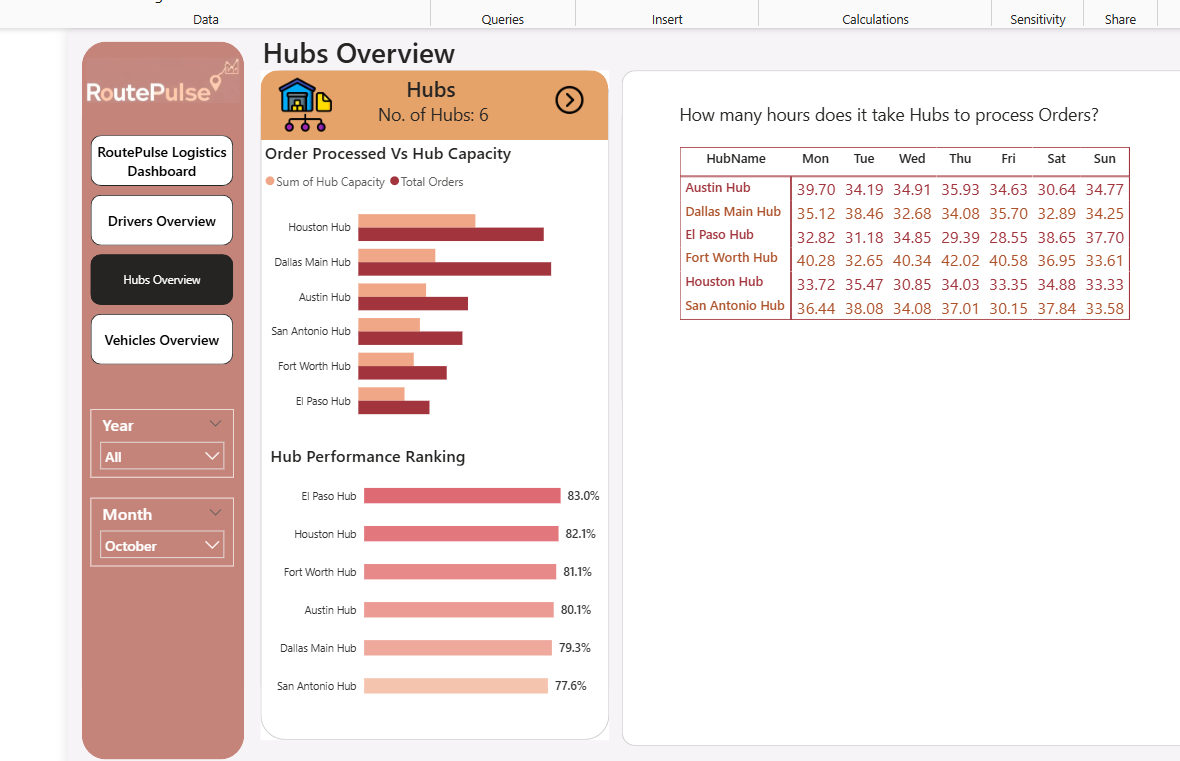

The dashboard page shown, as its layout file describes it:
{"tool":"powerbi","page":{"name":"Hubs Overview","canvas":[1450,850],"ordinal":2},"visuals":[{"type":"shape","box":[15.9,14.3,185.7,820.6],"z":0},{"type":"textbox","box":[217.6,0,525,58.8],"z":1000},{"type":"slicer","fields":{"Values":["Date Table.Year"]},"box":[25.6,434.4,163.8,78.3],"z":2000},{"type":"slicer","fields":{"Values":["Date Table.Month"]},"box":[25.6,535.5,163.8,78.3],"z":3000},{"type":"shape","box":[219.4,47.2,398.6,765.3],"z":4000},{"type":"shape","box":[220.1,46.6,397.4,79.8],"z":5000},{"type":"textbox","box":[381.1,46.6,101.1,44.2],"z":6000},{"type":"card","fields":{"Values":["Hubs.No. of Hubs"]},"box":[349.7,70.8,139.6,55.5],"z":7000},{"type":"clusteredBarChart","title":"Order Processed Vs Hub Capacity ","fields":{"Category":["Hubs.HubName"],"Y":["Sum(Hubs.Hub Capacity)","Orders.Total Orders"]},"box":[219.4,129.2,398.6,333.3],"z":8000},{"type":"barChart","title":"Hub Performance Ranking","fields":{"Category":["Hubs.HubName"],"Y":["Orders.On Time Delivery Rate"]},"box":[231.9,473.6,376.4,304.2],"z":9000},{"type":"image","box":[21.4,8.5,175.2,99.7],"z":10000},{"type":"image","box":[557.8,64.7,31.9,33.3],"z":11000},{"type":"shape","box":[633.3,47.2,801.4,772.2],"z":12000},{"type":"pivotTable","fields":{"Values":["Orders.Avg Delivery Time(Hrs)"],"Columns":["Date Table.Day"],"Rows":["Hubs.HubName"]},"box":[693.6,129.6,538.4,209.4],"z":13000},{"type":"card","fields":{"Values":["Hubs.hub line"]},"box":[672.3,71.2,535.5,55.5],"z":15000},{"type":"pageNavigator","box":[25.6,121.1,163.8,263.5],"z":15001},{"type":"image","box":[219.3,55.5,102.5,61.2],"z":15002}]}

Visuals, with their boxes on the page's 1450x850 design canvas (x1, y1, x2, y2). These are canvas units, not pixel positions in the 1180x761 screenshot, which may show the page scaled, cropped or inside an application window:
shape: rect(16, 14, 202, 835)
textbox: rect(218, 0, 743, 59)
slicer - Date Table.Year: rect(26, 434, 189, 513)
slicer - Date Table.Month: rect(26, 536, 189, 614)
shape: rect(219, 47, 618, 812)
shape: rect(220, 47, 618, 126)
textbox: rect(381, 47, 482, 91)
card - Hubs.No. of Hubs: rect(350, 71, 489, 126)
"Order Processed Vs Hub Capacity " clusteredBarChart: rect(219, 129, 618, 462)
"Hub Performance Ranking" barChart: rect(232, 474, 608, 778)
image: rect(21, 8, 197, 108)
image: rect(558, 65, 590, 98)
shape: rect(633, 47, 1435, 819)
pivotTable - Orders.Avg Delivery Time(Hrs) x Date Table.Day: rect(694, 130, 1232, 339)
card - Hubs.hub line: rect(672, 71, 1208, 127)
pageNavigator: rect(26, 121, 189, 385)
image: rect(219, 56, 322, 117)
